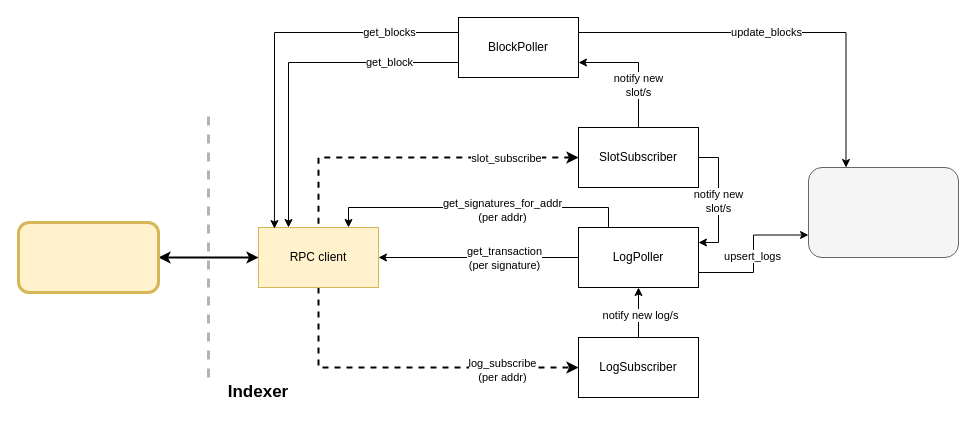
The diagram is 976 pixels wide and 425 high, and some of its shapes have lost their labels. The centre of each missing label's shape, as x and y in pixels:
"Cache" belongs at (883,212).
"RPC Node" belongs at (88,257).
